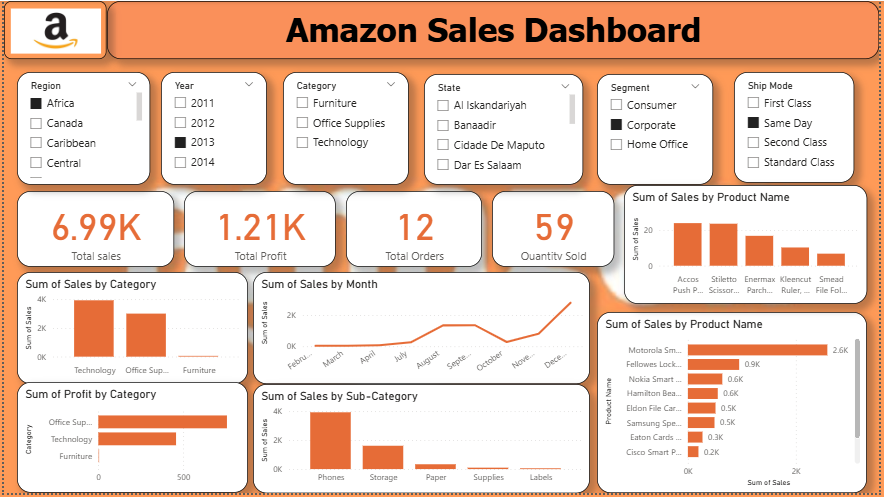

This screenshot's page, from the dashboard's own definition file:
{"tool":"powerbi","page":{"name":"P1","canvas":[1280,720],"ordinal":0},"visuals":[{"type":"textbox","box":[150,0,1129.7,85.1],"z":0},{"type":"image","box":[0,0,150,85.1],"z":1000},{"type":"card","fields":{"Values":["Orders.Total sales"]},"box":[19,278,229.8,111.2],"z":2000},{"type":"card","fields":{"Values":["Orders.Total Profit"]},"box":[263.4,278,222.4,111.2],"z":3000},{"type":"card","fields":{"Values":["Orders.Total Orders"]},"box":[500.5,278,199,111.2],"z":4000},{"type":"card","fields":{"Values":["Orders.Quantity Sold"]},"box":[714.1,278,178.5,111.2],"z":5000},{"type":"clusteredColumnChart","fields":{"Category":["Orders.Category"],"Y":["Sum(Orders.Sales)"]},"box":[19,396.6,338,163.9],"z":6000},{"type":"barChart","fields":{"Y":["Sum(Orders.Profit)"],"Category":["Orders.Category"]},"box":[19,557.6,338,162.4],"z":7000},{"type":"lineChart","fields":{"Y":["Sum(Orders.Sales)"],"Category":["Orders.Order Date.Variation.Date Hierarchy.Month"]},"box":[364.4,396.6,493.2,163.9],"z":8000},{"type":"slicer","fields":{"Values":["Orders.Region"]},"box":[19,103.9,194.6,165.4],"z":9000},{"type":"slicer","fields":{"Values":["Orders.Order Date.Variation.Date Hierarchy.Year"]},"box":[229.8,103.9,155.1,165.4],"z":10000},{"type":"slicer","fields":{"Values":["Orders.Category"]},"box":[408.3,103.9,184.4,165.4],"z":11000},{"type":"slicer","fields":{"Values":["Orders.State"]},"box":[614.6,106.8,232.7,162.4],"z":12000},{"type":"slicer","fields":{"Values":["Orders.Segment"]},"box":[867.8,106.8,169.8,162.4],"z":13000},{"type":"slicer","fields":{"Values":["Orders.Ship Mode"]},"box":[1068.3,103.9,175.6,162.4],"z":14000},{"type":"clusteredColumnChart","fields":{"Y":["Sum(Orders.Sales)"],"Category":["Orders.Sub-Category"]},"box":[364.4,560.5,493.2,159.5],"z":15000},{"type":"barChart","fields":{"Y":["Sum(Orders.Sales)"],"Category":["Orders.Product Name"]},"box":[867.8,455.1,395.1,264.9],"z":16000},{"type":"columnChart","fields":{"Y":["Sum(Orders.Sales)"],"Category":["Orders.Product Name"]},"box":[907.3,269.3,355.6,174.1],"z":17000}]}

Visuals, with their boxes in screenshot pixels (x1, y1, x2, y2), scaled from the page's 1280x720 canvas onto the 884x497 screenshot:
textbox: Rect(104, 0, 883, 59)
image: Rect(0, 0, 104, 59)
card - Orders.Total sales: Rect(13, 192, 172, 269)
card - Orders.Total Profit: Rect(182, 192, 336, 269)
card - Orders.Total Orders: Rect(346, 192, 483, 269)
card - Orders.Quantity Sold: Rect(493, 192, 616, 269)
clusteredColumnChart - Orders.Category x Sum(Orders.Sales): Rect(13, 274, 247, 387)
barChart - Sum(Orders.Profit) x Orders.Category: Rect(13, 385, 247, 496)
lineChart - Sum(Orders.Sales) x Orders.Order Date.Variation.Date Hierarchy.Month: Rect(252, 274, 592, 387)
slicer - Orders.Region: Rect(13, 72, 148, 186)
slicer - Orders.Order Date.Variation.Date Hierarchy.Year: Rect(159, 72, 266, 186)
slicer - Orders.Category: Rect(282, 72, 409, 186)
slicer - Orders.State: Rect(424, 74, 585, 186)
slicer - Orders.Segment: Rect(599, 74, 717, 186)
slicer - Orders.Ship Mode: Rect(738, 72, 859, 184)
clusteredColumnChart - Sum(Orders.Sales) x Orders.Sub-Category: Rect(252, 387, 592, 496)
barChart - Sum(Orders.Sales) x Orders.Product Name: Rect(599, 314, 872, 496)
columnChart - Sum(Orders.Sales) x Orders.Product Name: Rect(627, 186, 872, 306)
